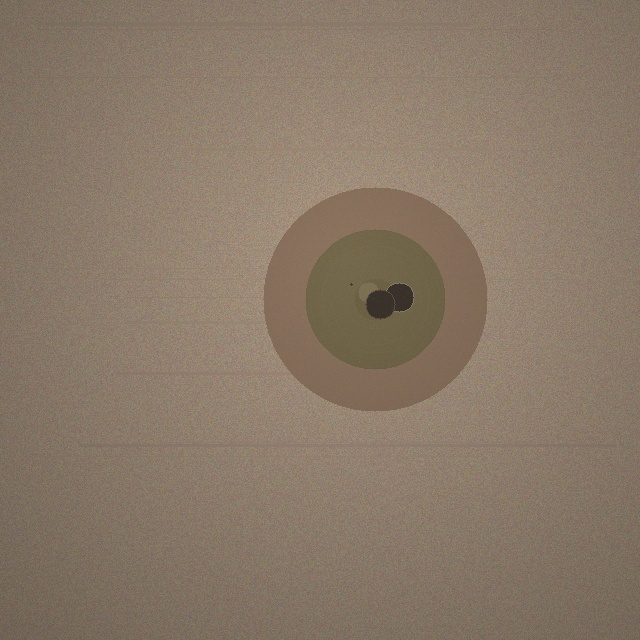shrinkage: (263, 187, 487, 411)
